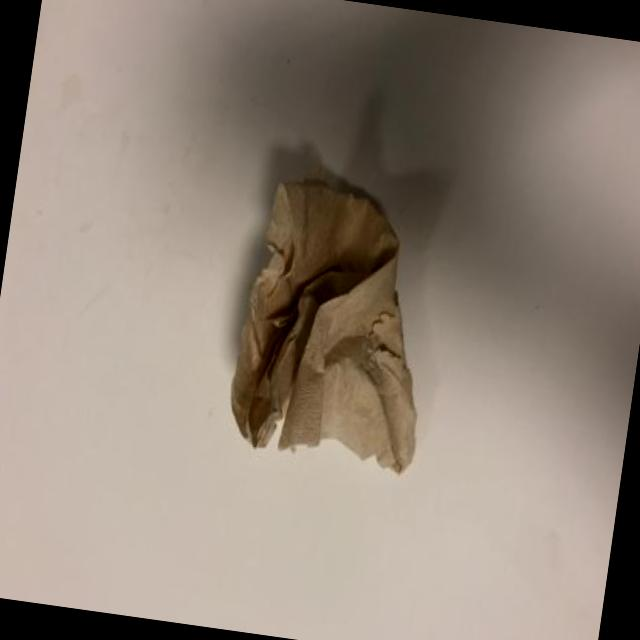Trash: (223, 169, 454, 476)
